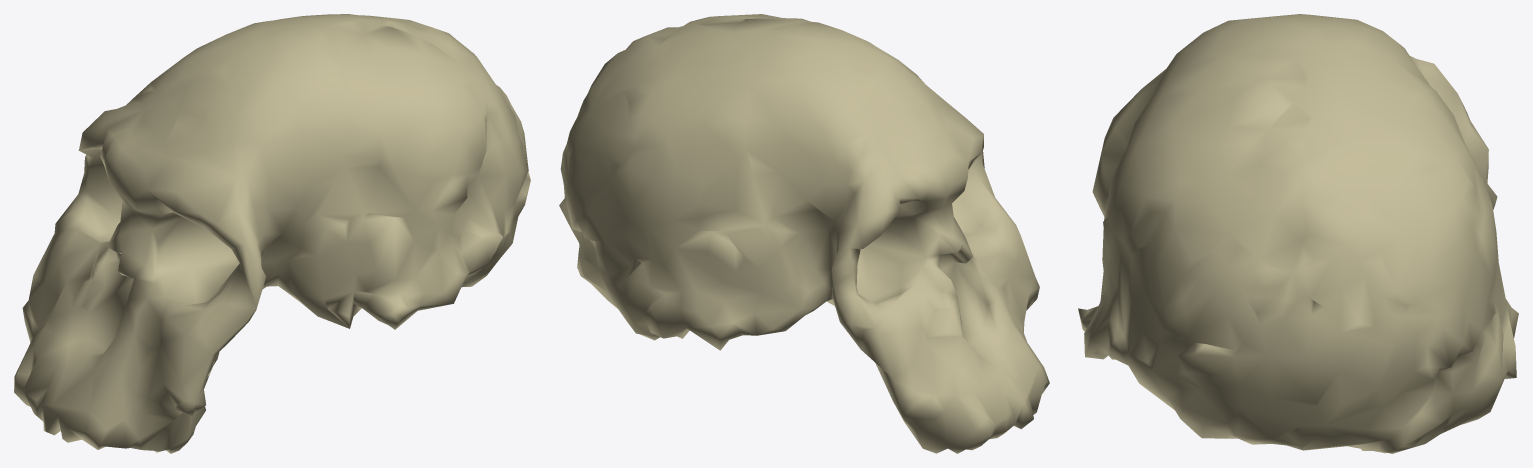
File: habilis.glb
The picture shows the model from 3 angles, left to right: view 1: azimuth 30°, elevation 25°; view 2: azimuth 150°, elevation 25°; view 3: azimuth 270°, elevation 25°; orthographic projection. The views are drawn at different scales.
Parts seen in each view (by area): view 1: KNMER 1470.001; view 2: KNMER 1470.001; view 3: KNMER 1470.001.
Part boxes in pixels (<box>): KNMER 1470.001: <box>14,14,530,453</box>; KNMER 1470.001: <box>559,14,1049,453</box>; KNMER 1470.001: <box>1078,14,1518,453</box>.
Size of the model in its own units: 0.1947 by 0.1418 by 0.131.
